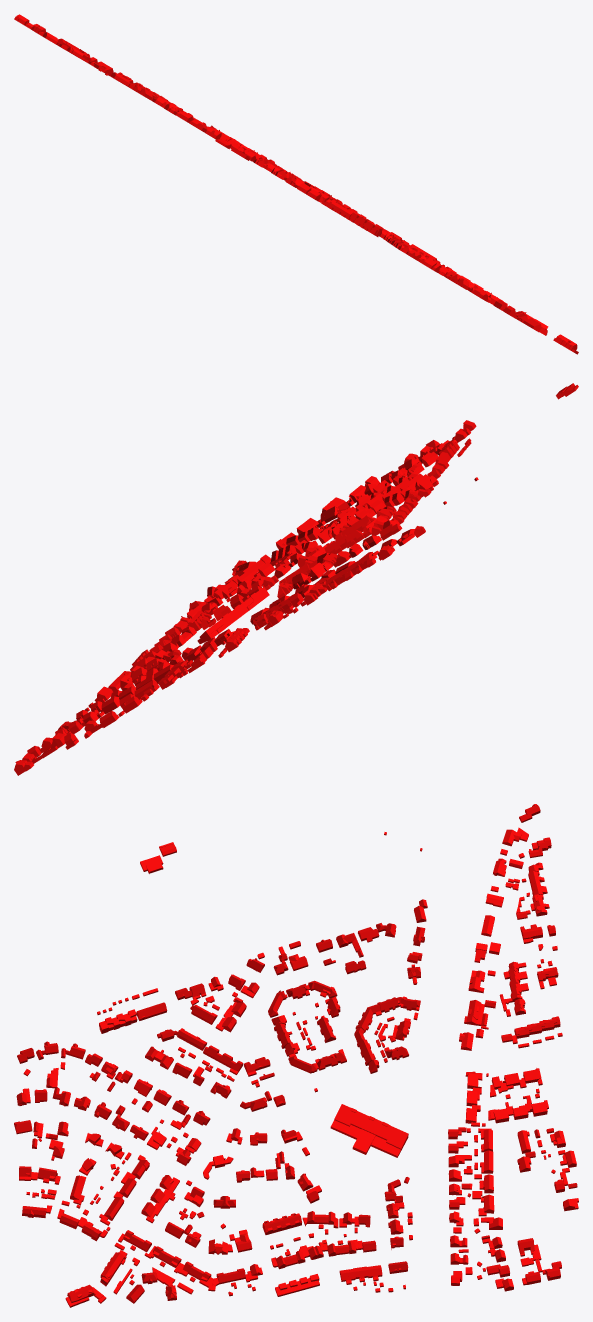
3 views of the same model, one above another, from view 1: azimuth 30°, elevation 25°; view 2: azimuth 150°, elevation 25°; view 3: azimuth 270°, elevation 25° (orthographic). The views are drawn at different scales.
Visible parts, largest first — view 1: mesh; view 2: mesh; view 3: mesh.
Part boxes in pixels (left/top/right/bottom): mesh: left=14, top=14, right=578, bottom=354; mesh: left=14, top=383, right=578, bottom=775; mesh: left=14, top=804, right=578, bottom=1307.
Bounding box in the file's own units: 430 × 314 × 521.
